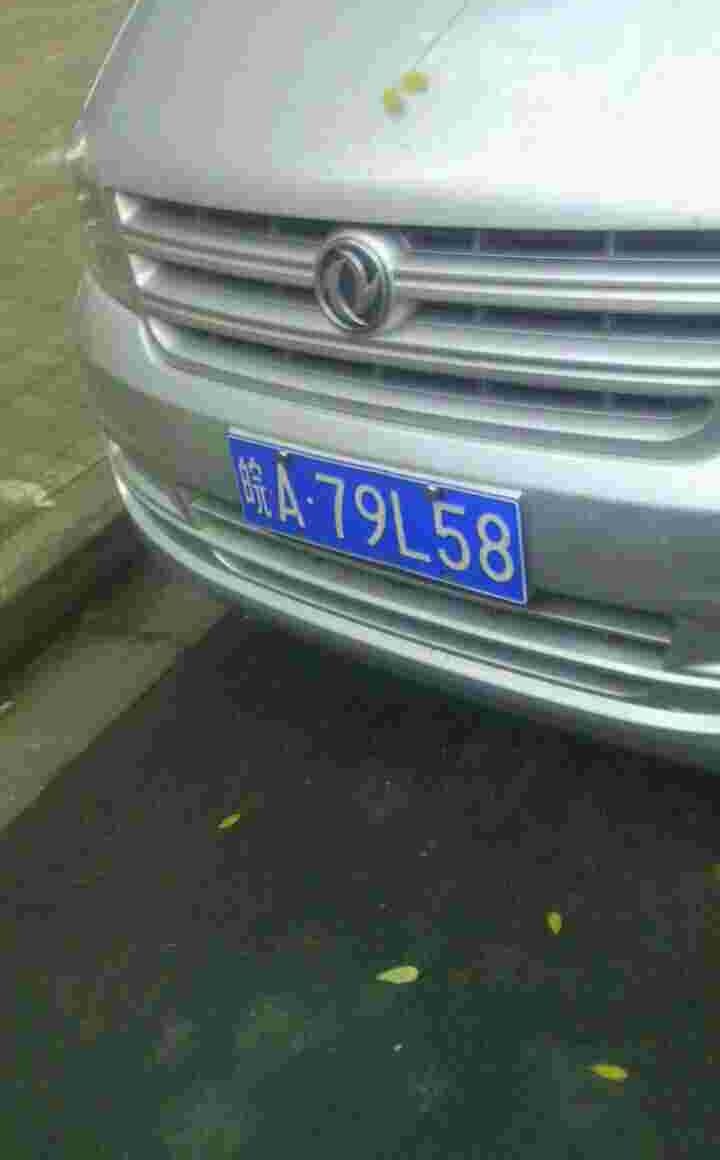license_plate: (226, 431, 533, 602)
